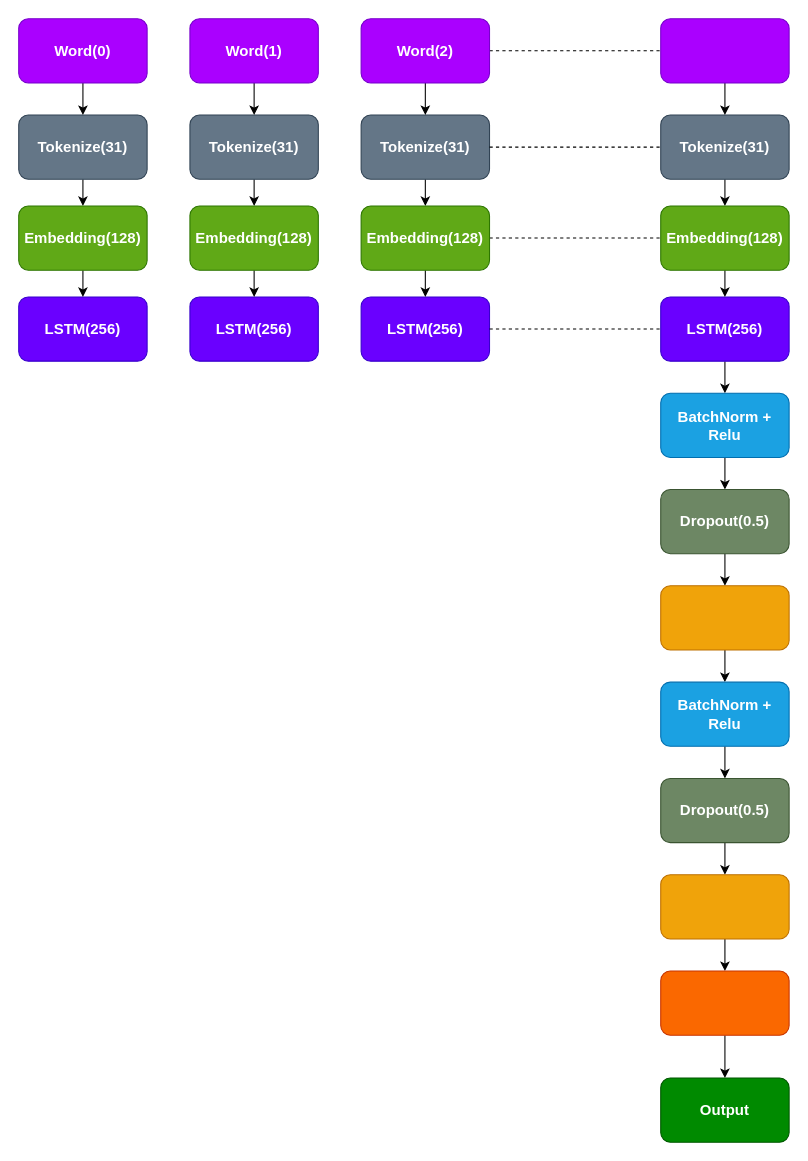
Some shapes in this 808 by 1161 pixel diagram are drawn without their labels. Here are the shapes that lost their labels. From the top down, the centre of each, then its label:
point 724,50: Word(30)
point 724,617: Fully Connected(128)
point 724,906: Fully Connected(3)
point 724,1002: Softmax
